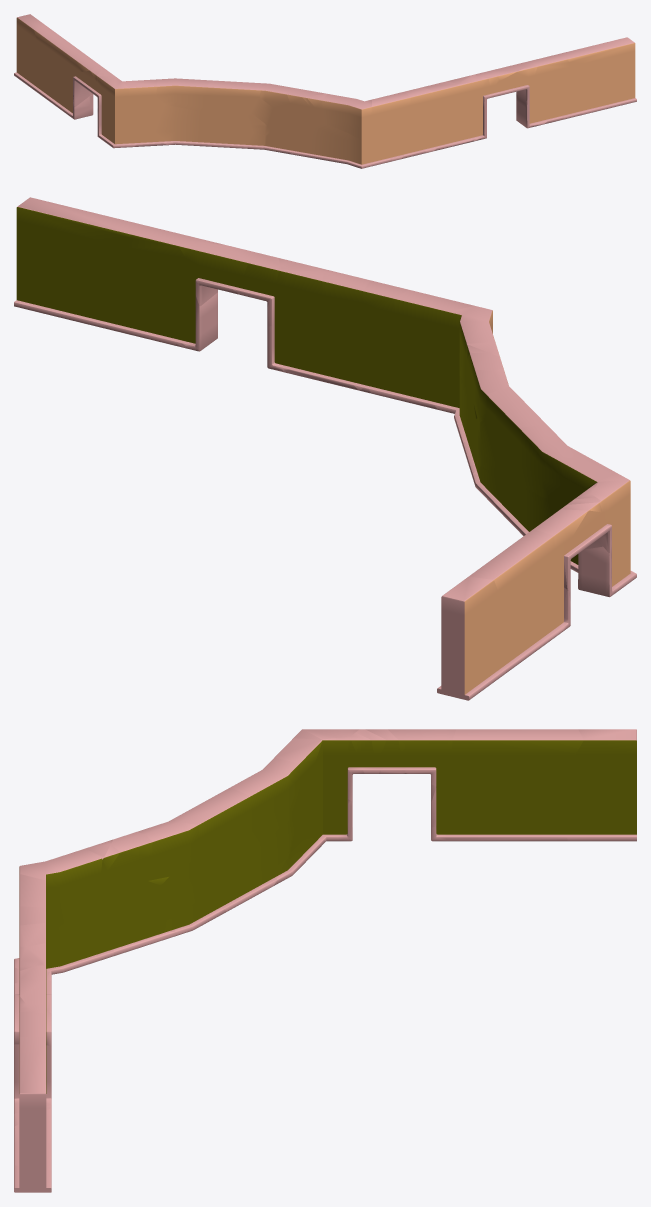
The model's file is InnerWall_2_Fractured.fbx.
3 views of the same model, one above another, from view 1: azimuth 30°, elevation 25°; view 2: azimuth 150°, elevation 25°; view 3: azimuth 270°, elevation 25° (orthographic). The views are drawn at different scales.
Visible parts, largest first — view 1: polySurface143, polySurface196, polySurface165, polySurface138, polySurface145, polySurface178, polySurface174, polySurface154, polySurface136, polySurface159, polySurface179, polySurface139 (+33 smaller); view 2: polySurface143, polySurface154, polySurface136, polySurface179, polySurface139, polySurface159, polySurface138, polySurface153, polySurface181, polySurface130, polySurface173, polySurface175 (+26 smaller); view 3: polySurface154, polySurface153, polySurface184, polySurface139, polySurface145, polySurface196, polySurface159, polySurface174, polySurface165, polySurface136, polySurface192, polySurface183 (+17 smaller).
Part boxes in pixels (left/top/right/bottom): polySurface143: left=516, top=53, right=573, bottom=128; polySurface196: left=309, top=123, right=371, bottom=168; polySurface165: left=200, top=108, right=253, bottom=148; polySurface138: left=97, top=101, right=139, bottom=148; polySurface145: left=322, top=94, right=371, bottom=140; polySurface178: left=153, top=104, right=202, bottom=146; polySurface174: left=206, top=80, right=262, bottom=114; polySurface154: left=14, top=14, right=44, bottom=90; polySurface136: left=560, top=37, right=635, bottom=69; polySurface159: left=155, top=78, right=210, bottom=112; polySurface179: left=569, top=62, right=626, bottom=95; polySurface139: left=38, top=49, right=93, bottom=115; polySurface143: left=122, top=225, right=217, bottom=351; polySurface154: left=437, top=576, right=505, bottom=700; polySurface136: left=16, top=197, right=143, bottom=250; polySurface179: left=27, top=237, right=129, bottom=292; polySurface139: left=501, top=554, right=570, bottom=625; polySurface159: left=519, top=425, right=585, bottom=498; polySurface138: left=578, top=508, right=636, bottom=597; polySurface153: left=469, top=529, right=555, bottom=599; polySurface181: left=267, top=321, right=331, bottom=371; polySurface130: left=267, top=269, right=323, bottom=326; polySurface173: left=393, top=321, right=459, bottom=385; polySurface175: left=394, top=290, right=474, bottom=349; polySurface154: left=559, top=729, right=636, bottom=841; polySurface153: left=448, top=729, right=583, bottom=777; polySurface184: left=431, top=788, right=567, bottom=841; polySurface139: left=431, top=771, right=561, bottom=827; polySurface145: left=19, top=848, right=102, bottom=930; polySurface196: left=14, top=903, right=115, bottom=974; polySurface159: left=230, top=757, right=301, bottom=844; polySurface174: left=173, top=787, right=250, bottom=855; polySurface165: left=211, top=832, right=265, bottom=911; polySurface136: left=19, top=1037, right=46, bottom=1132; polySurface192: left=98, top=832, right=152, bottom=907; polySurface183: left=388, top=729, right=455, bottom=785.
Size of the model in its own units: 32.19 by 4.06 by 23.1.
